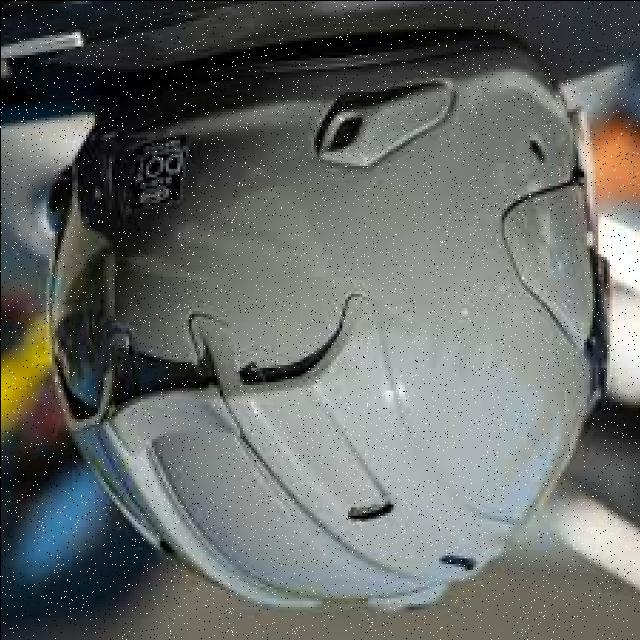Helmet: (49, 39, 604, 602)
